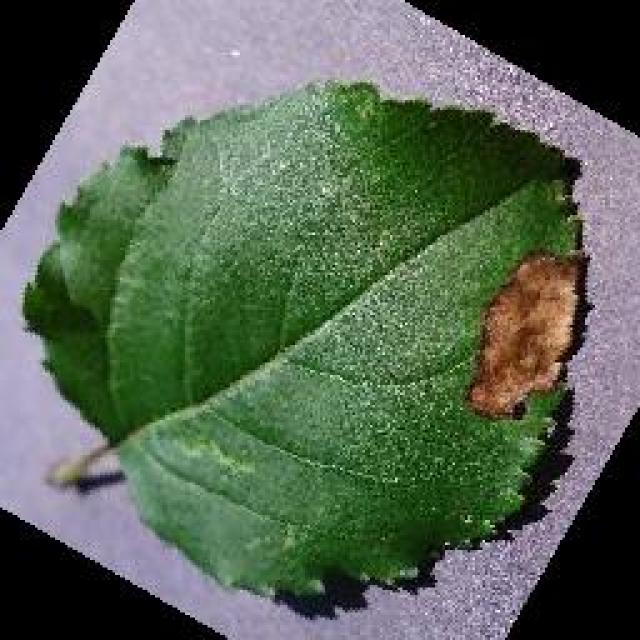apple healthy: (20, 75, 590, 610)
